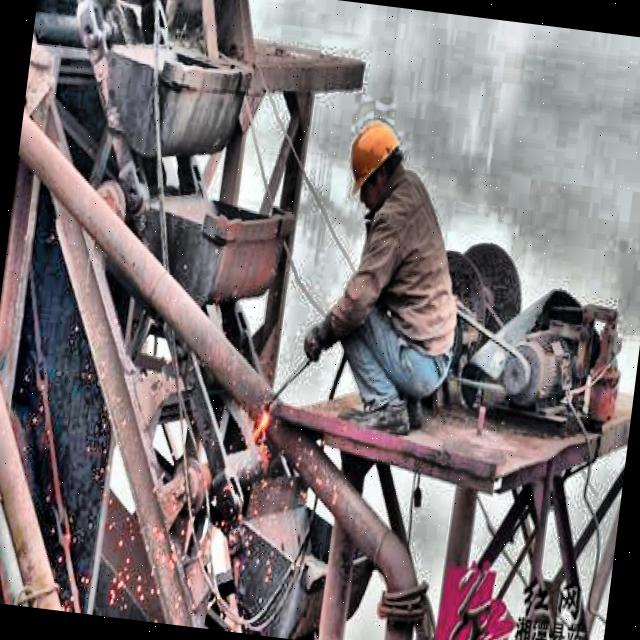helmet: (337, 108, 416, 219)
